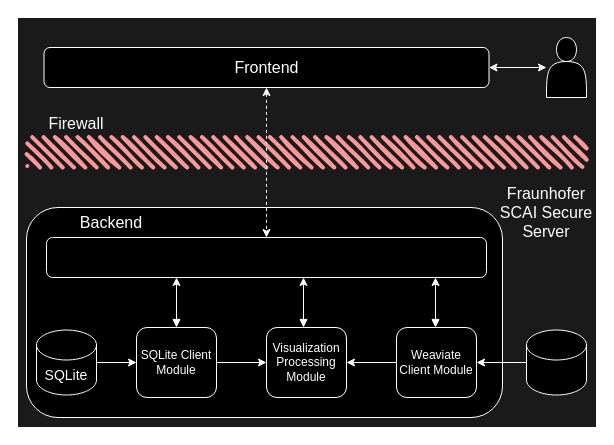
Some shapes in this 614 by 445 pixel diagram are drawn without their labels. The shapes that lost their labels are listed below. From the top down, each one's centre as x and y in pixels, then its label:
the point at 266,257: FastAPI
the point at 556,362: Weaviate
